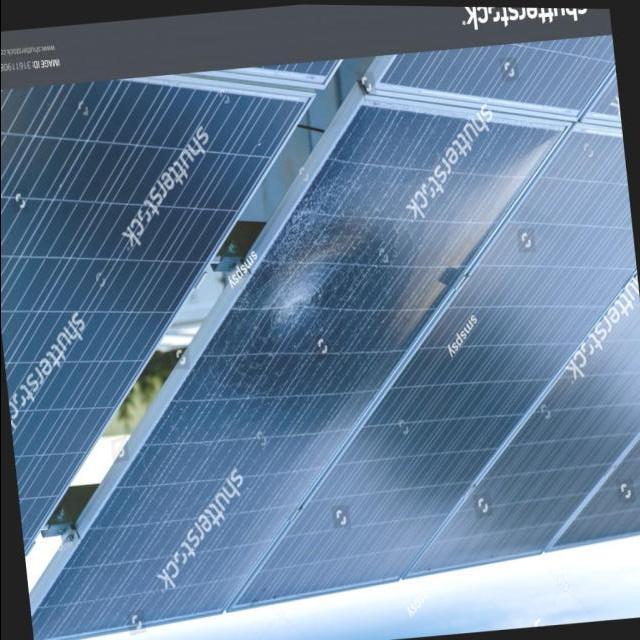cracked: (59, 102, 524, 622)
